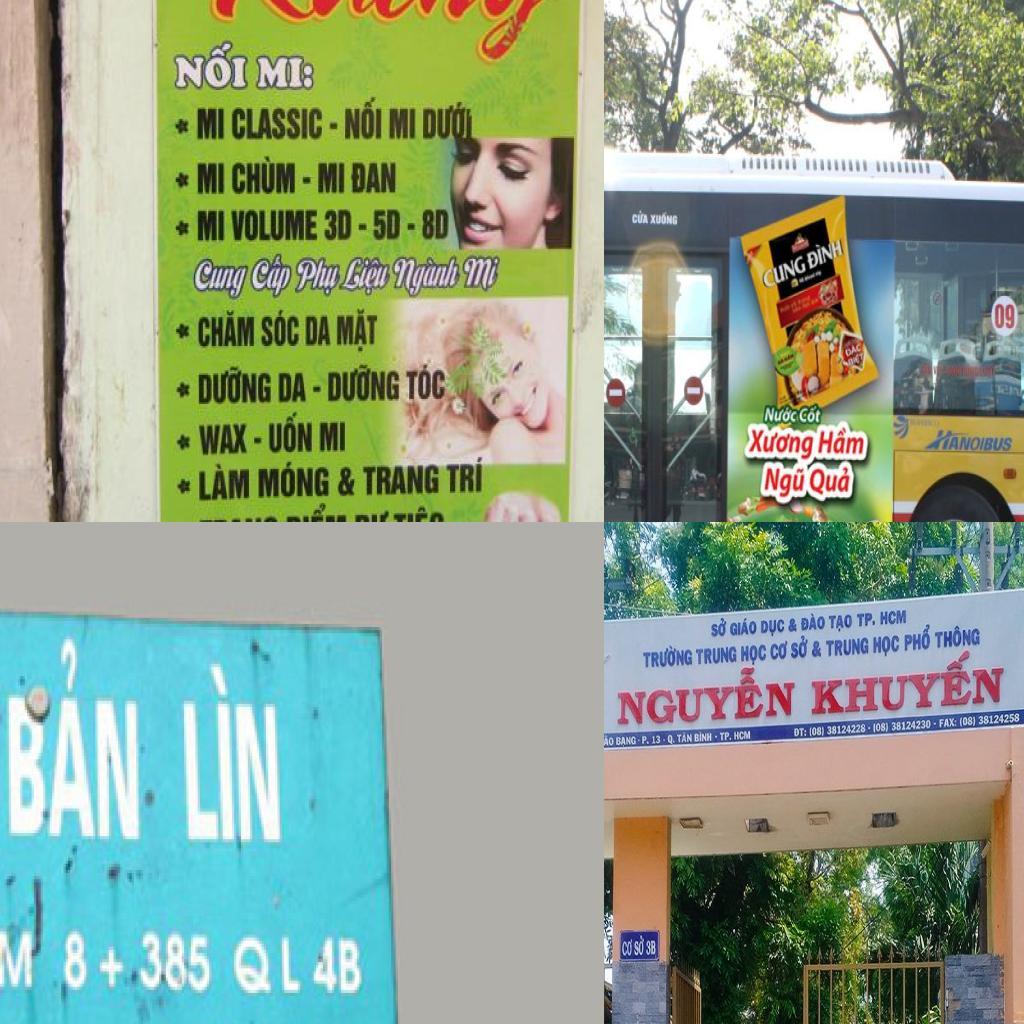text: (0, 623, 154, 851), (205, 0, 567, 73), (175, 642, 291, 858), (808, 648, 1006, 717), (615, 665, 797, 727), (232, 922, 309, 1005), (136, 922, 216, 996), (312, 928, 370, 999), (173, 41, 249, 95), (232, 102, 327, 143), (387, 250, 463, 300), (228, 204, 320, 244), (327, 363, 403, 408), (198, 365, 273, 409), (0, 916, 40, 996), (255, 460, 331, 502), (362, 462, 442, 500), (231, 153, 299, 196), (339, 252, 395, 302), (198, 308, 258, 353), (254, 51, 316, 93), (742, 424, 814, 460), (194, 256, 250, 302), (422, 100, 476, 146), (196, 462, 252, 505), (246, 252, 294, 302), (61, 922, 93, 996), (294, 252, 344, 298), (805, 460, 855, 505), (266, 411, 314, 457), (336, 305, 380, 355), (759, 460, 809, 503), (460, 250, 506, 296), (342, 94, 384, 144), (349, 158, 399, 198), (197, 421, 249, 459), (98, 935, 130, 996), (814, 426, 868, 462), (404, 361, 449, 404), (759, 254, 808, 291), (446, 453, 485, 498), (261, 308, 300, 350), (804, 234, 846, 272), (283, 499, 350, 522), (640, 644, 694, 671), (934, 624, 982, 653), (276, 368, 309, 408), (195, 204, 227, 244), (302, 310, 334, 350), (195, 102, 226, 143), (314, 160, 346, 198), (419, 206, 451, 244), (386, 105, 417, 143), (373, 206, 404, 244), (393, 501, 448, 522), (197, 158, 227, 196), (872, 717, 932, 736), (323, 208, 354, 244), (319, 420, 349, 456), (826, 635, 870, 659), (808, 721, 866, 739), (958, 712, 1020, 728), (695, 645, 738, 667), (198, 511, 281, 522), (762, 402, 799, 426), (904, 623, 932, 654), (872, 632, 901, 660), (337, 462, 358, 500), (992, 298, 1018, 326), (740, 642, 768, 668), (728, 616, 758, 638), (790, 633, 810, 663), (800, 611, 826, 634), (352, 506, 389, 522), (879, 608, 908, 627), (828, 612, 853, 634), (799, 404, 821, 428), (760, 618, 786, 638), (770, 638, 790, 664), (172, 317, 193, 341), (173, 430, 194, 454), (650, 212, 678, 230), (629, 206, 651, 228), (844, 350, 866, 372), (843, 340, 864, 362), (708, 617, 728, 639), (174, 376, 192, 400), (641, 732, 667, 748), (615, 734, 641, 749), (175, 168, 191, 192), (174, 218, 192, 239), (855, 611, 877, 628), (175, 116, 191, 136), (692, 730, 713, 745), (810, 637, 823, 661), (176, 478, 193, 496), (938, 716, 958, 731), (633, 934, 645, 957), (621, 938, 634, 957), (718, 729, 733, 745), (645, 939, 658, 957), (733, 730, 752, 742), (677, 731, 693, 745), (327, 119, 341, 134), (300, 174, 314, 189), (793, 726, 808, 739), (788, 617, 798, 634), (310, 384, 324, 396), (666, 732, 676, 747), (356, 222, 370, 232), (253, 435, 263, 448), (604, 734, 614, 747), (406, 222, 416, 234), (866, 726, 872, 732), (714, 734, 719, 740), (933, 722, 937, 728)
